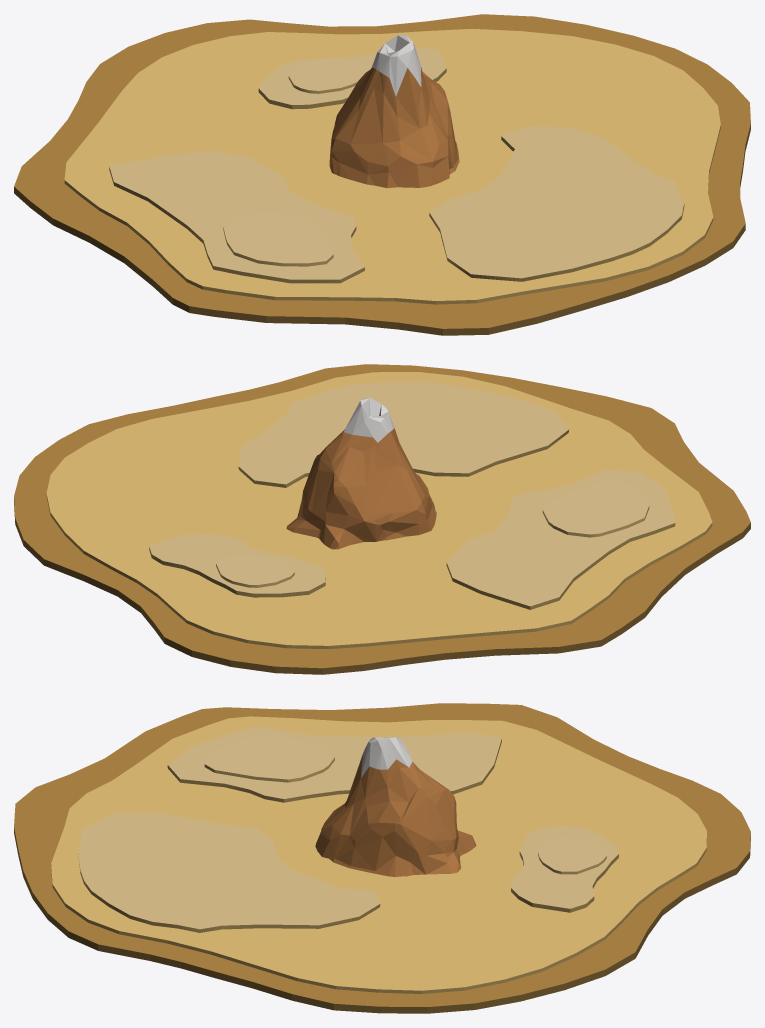
3 views of the same model, one above another, from view 1: azimuth 30°, elevation 25°; view 2: azimuth 150°, elevation 25°; view 3: azimuth 270°, elevation 25° (orthographic). The views are drawn at different scales.
Parts seen in each view (by area): view 1: pDisc4, pDisc2, pDisc5, pDisc3, pasted__huoshan, pDisc7, pDisc6, pDisc8; view 2: pDisc4, pDisc2, pDisc5, pDisc3, pasted__huoshan, pDisc6, pDisc7, pDisc8; view 3: pDisc4, pDisc2, pDisc5, pasted__huoshan, pDisc3, pDisc6, pDisc7, pDisc8.
Part boxes in pixels (bbox=[...]): pDisc4: bbox=[64, 28, 720, 304]; pDisc2: bbox=[14, 14, 750, 335]; pDisc5: bbox=[429, 126, 684, 281]; pDisc3: bbox=[109, 151, 364, 283]; pasted__huoshan: bbox=[329, 35, 459, 188]; pDisc7: bbox=[223, 213, 333, 266]; pDisc6: bbox=[258, 47, 446, 109]; pDisc8: bbox=[288, 58, 370, 93]; pDisc4: bbox=[46, 372, 712, 649]; pDisc2: bbox=[14, 364, 750, 674]; pDisc5: bbox=[238, 382, 569, 487]; pDisc3: bbox=[446, 469, 675, 609]; pasted__huoshan: bbox=[286, 398, 436, 549]; pDisc6: bbox=[149, 534, 325, 597]; pDisc7: bbox=[542, 481, 649, 537]; pDisc8: bbox=[216, 555, 294, 587]; pDisc4: bbox=[51, 716, 706, 993]; pDisc2: bbox=[14, 703, 750, 1013]; pDisc5: bbox=[78, 812, 380, 932]; pasted__huoshan: bbox=[315, 737, 476, 876]; pDisc3: bbox=[167, 726, 501, 802]; pDisc6: bbox=[511, 825, 618, 912]; pDisc7: bbox=[204, 736, 334, 782]; pDisc8: bbox=[538, 837, 606, 874].
Bounding box in the file's own units: 98.54 × 19.27 × 101.
